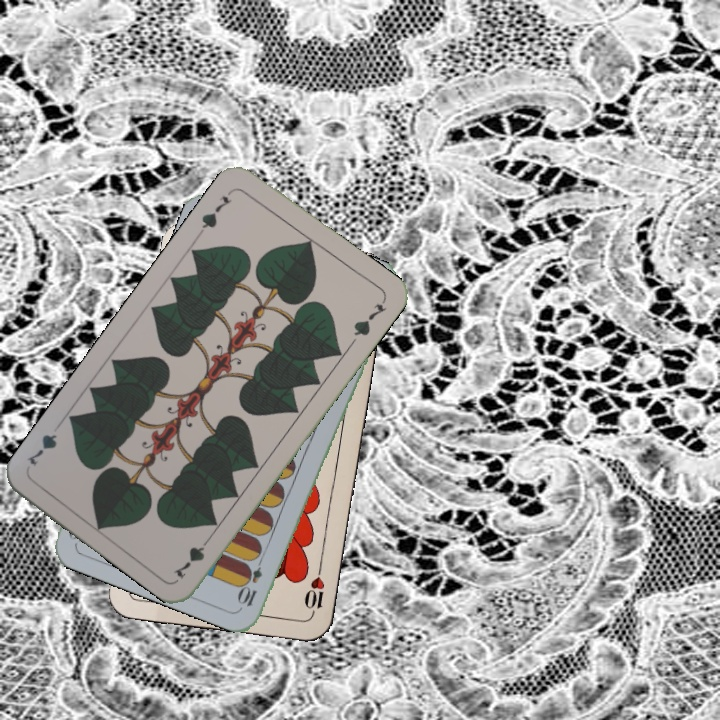E10: (236, 551, 267, 609)
G7: (170, 531, 215, 582), (194, 186, 236, 237)
H10: (301, 561, 328, 620)
